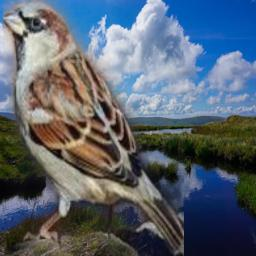Sparrow: (3, 0, 184, 256)
